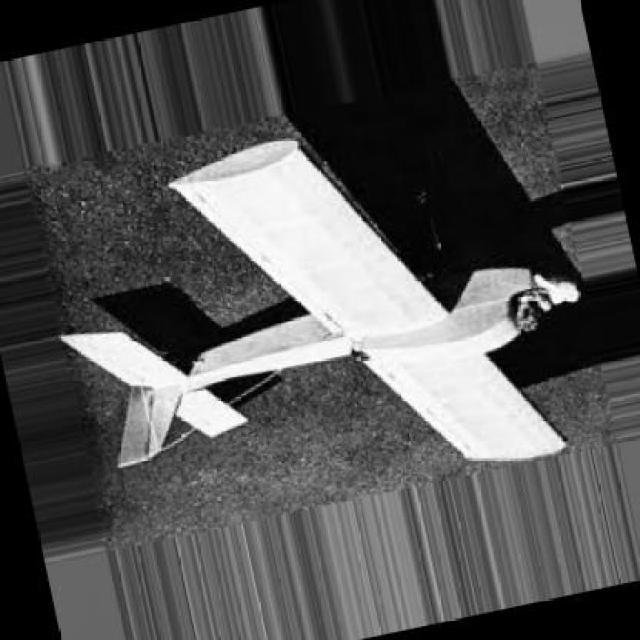iha: (18, 43, 622, 559)
